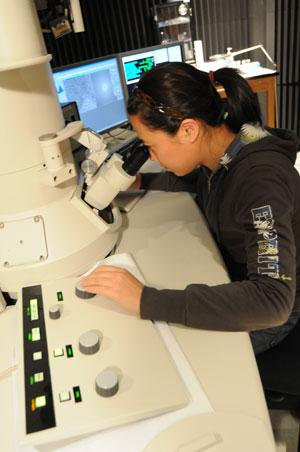person: (78, 61, 300, 415)
